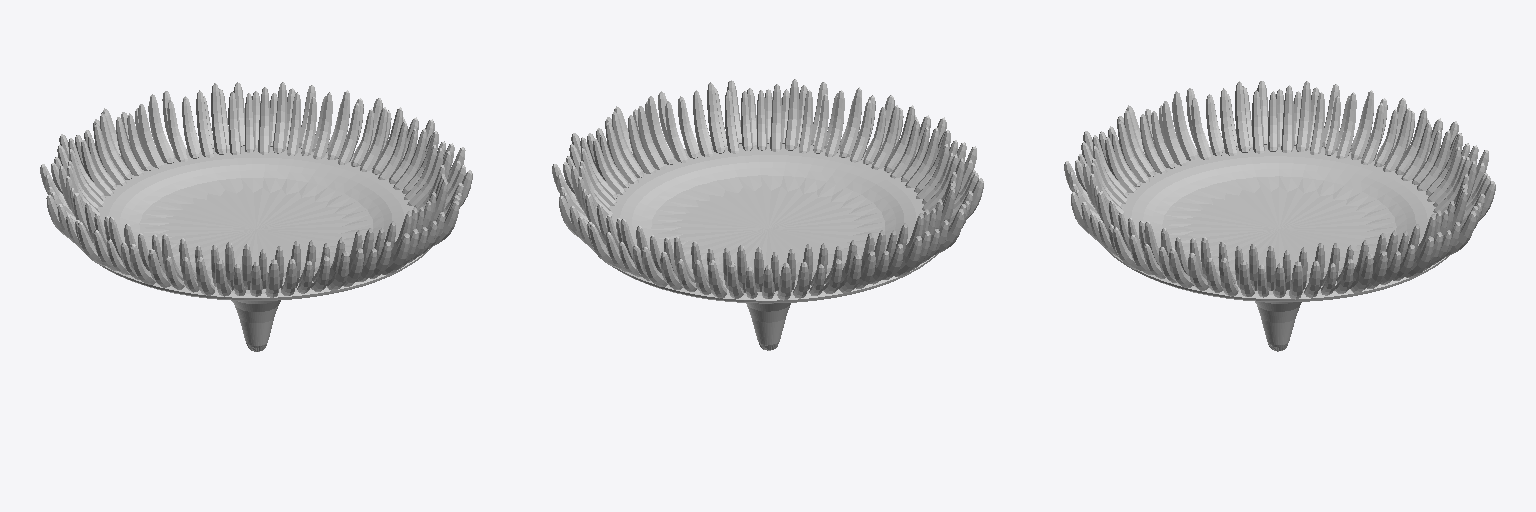
File: kelp2.obj
3 views of the same model, side by side, from view 1: azimuth 30°, elevation 25°; view 2: azimuth 150°, elevation 25°; view 3: azimuth 270°, elevation 25° (orthographic).
Visible parts, largest first — view 1: Large_Soft_Coral_Cube.060; view 2: Large_Soft_Coral_Cube.060; view 3: Large_Soft_Coral_Cube.060.
Part boxes in pixels (bbox=[...]): Large_Soft_Coral_Cube.060: bbox=[40, 82, 472, 351]; Large_Soft_Coral_Cube.060: bbox=[552, 79, 983, 350]; Large_Soft_Coral_Cube.060: bbox=[1064, 81, 1495, 351].
Bounding box in the file's own units: 30.97 × 15.15 × 30.96.